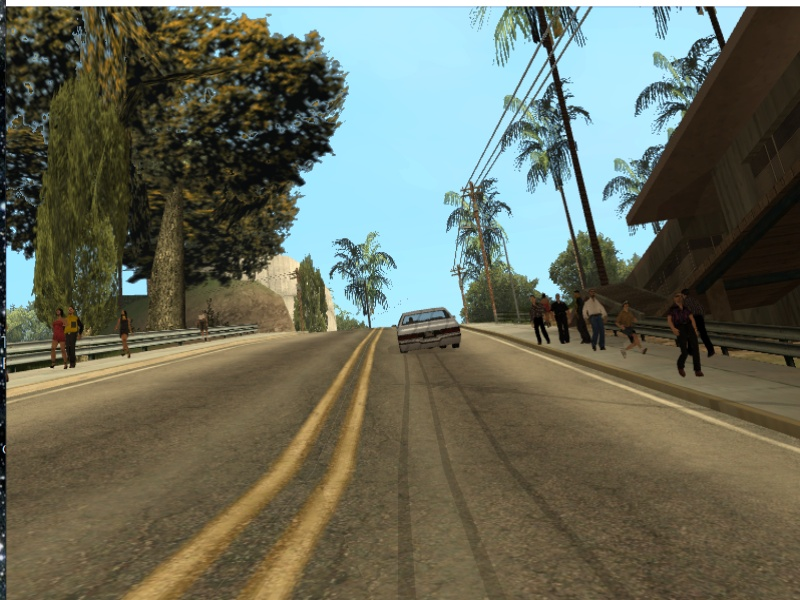person: (665, 292, 710, 378), (616, 302, 648, 356), (62, 304, 87, 370), (583, 292, 609, 349), (526, 294, 551, 348), (552, 295, 575, 348), (116, 308, 134, 360), (45, 308, 61, 366), (571, 288, 587, 343), (197, 312, 212, 346)
vehicle: (395, 307, 466, 356)
